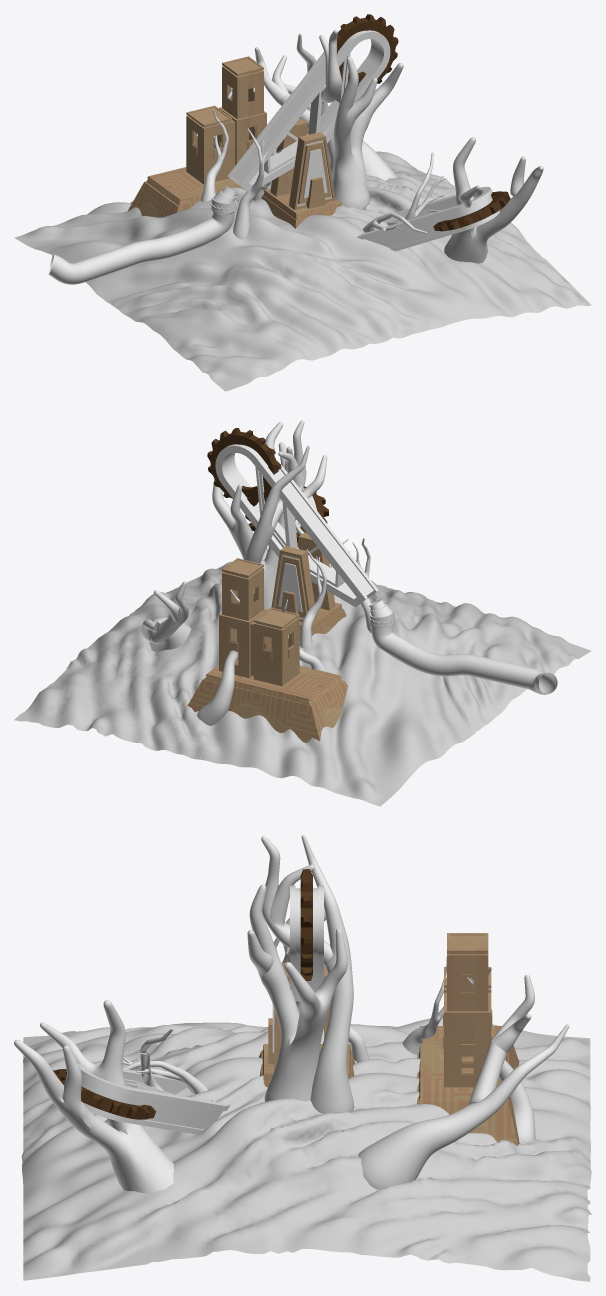
File: MiningTown.fbx
3 renders of one model, top to bottom at view 1: azimuth 30°, elevation 25°; view 2: azimuth 150°, elevation 25°; view 3: azimuth 270°, elevation 25°, orthographic. The views are drawn at different scales.
Parts seen in each view (by area): view 1: Plane, Cylinder, Cube.005, Cube.007, Cube.004, Cube.014, Cylinder.004, Cube.013, Cube.002, Cube.011, Cube.006, Cylinder.001 (+7 smaller); view 2: Plane, Cube.005, Cylinder, Cube.013, Cube.004, Cube.006, Cube.007, Cube, Cube.011, Cylinder.001, Cube.008, Cube.009 (+3 smaller); view 3: Plane, Cube.014, Cube.011, Cube.007, Cube.006, Cube.005, Cylinder.004, Cube.013, Cylinder, Cylinder.001, Cylinder.005, Cube.008 (+4 smaller).
Part boxes in pixels (x1,y1,x2,y2): Plane: [14, 151, 591, 391]; Cylinder: [227, 30, 390, 192]; Cube.005: [186, 56, 266, 184]; Cube.007: [332, 56, 403, 209]; Cube.004: [48, 211, 234, 284]; Cube.014: [444, 137, 543, 263]; Cylinder.004: [357, 186, 499, 251]; Cube.013: [128, 167, 271, 217]; Cube.002: [289, 132, 335, 209]; Cube.011: [254, 47, 397, 180]; Cube.006: [296, 30, 342, 179]; Cylinder.001: [337, 14, 398, 85]; Plane: [14, 561, 591, 806]; Cube.005: [219, 558, 299, 686]; Cylinder: [215, 444, 378, 607]; Cube.013: [187, 659, 347, 743]; Cube.004: [371, 625, 557, 694]; Cube.006: [244, 420, 309, 608]; Cube.007: [212, 446, 293, 609]; Cube: [271, 546, 316, 622]; Cube.011: [141, 581, 191, 652]; Cylinder.001: [207, 428, 281, 506]; Cube.008: [197, 589, 249, 725]; Cube.009: [299, 549, 326, 647]; Plane: [21, 1017, 591, 1281]; Cube.014: [14, 1000, 174, 1193]; Cube.011: [358, 975, 569, 1189]; Cube.007: [247, 884, 347, 1101]; Cube.006: [261, 835, 354, 1113]; Cube.005: [443, 933, 492, 1087]; Cylinder.004: [78, 1064, 230, 1134]; Cube.013: [417, 1026, 519, 1146]; Cylinder: [290, 885, 323, 1001]; Cylinder.001: [300, 869, 312, 980]; Cylinder.005: [53, 1069, 155, 1119]; Cube.008: [467, 967, 535, 1142].
Size of the model in its own units: 4578 by 2513 by 3912.
